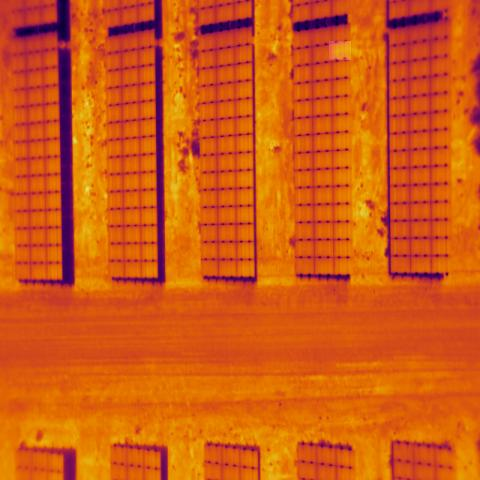fault: (330, 41, 351, 60)
